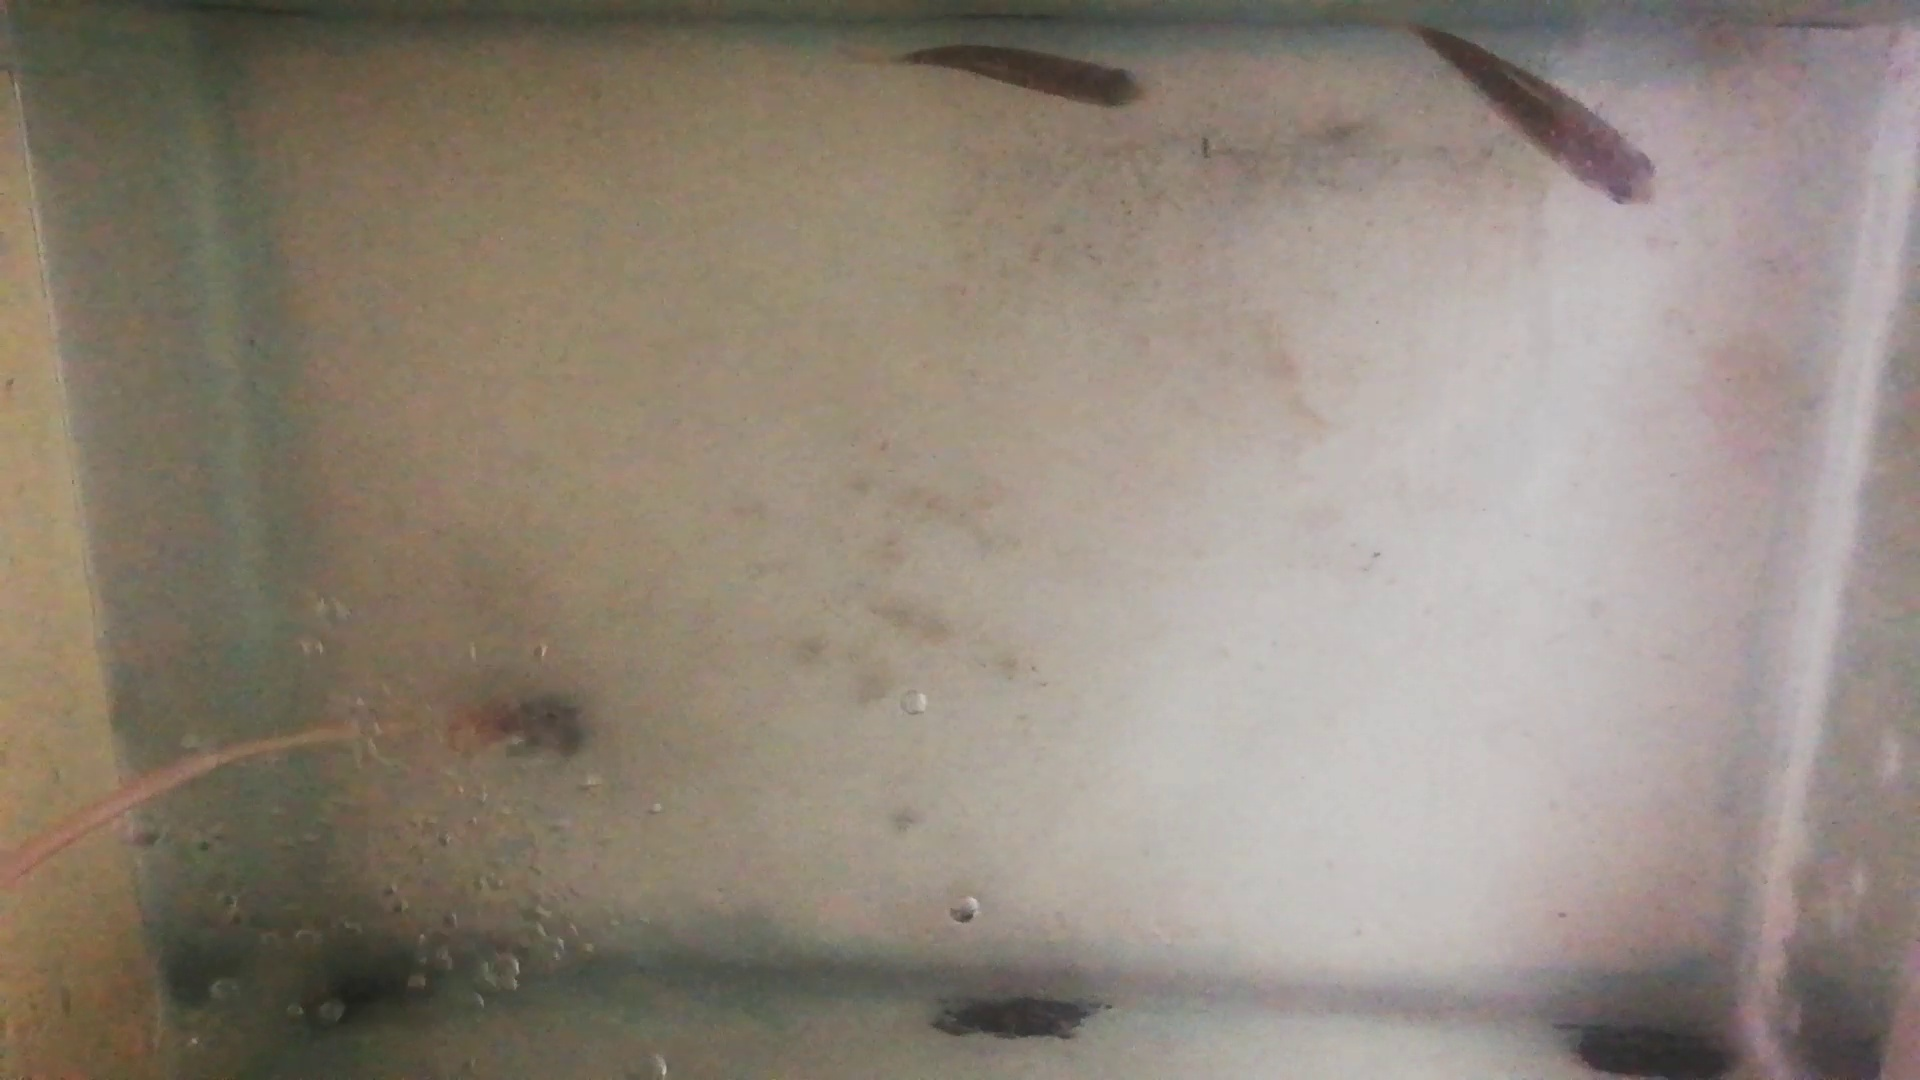fish: (1410, 18, 1658, 211), (899, 41, 1149, 109)
